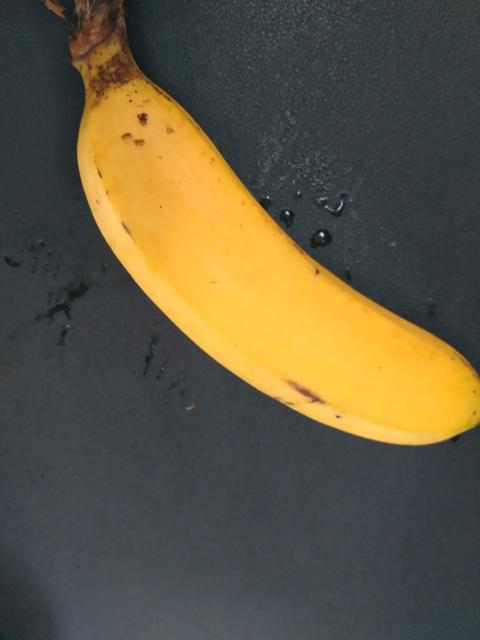freshripe: (72, 69, 479, 448)
